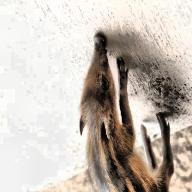boar: (78, 36, 175, 192)
